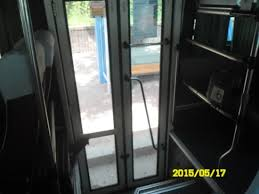exit: (43, 1, 188, 194)
